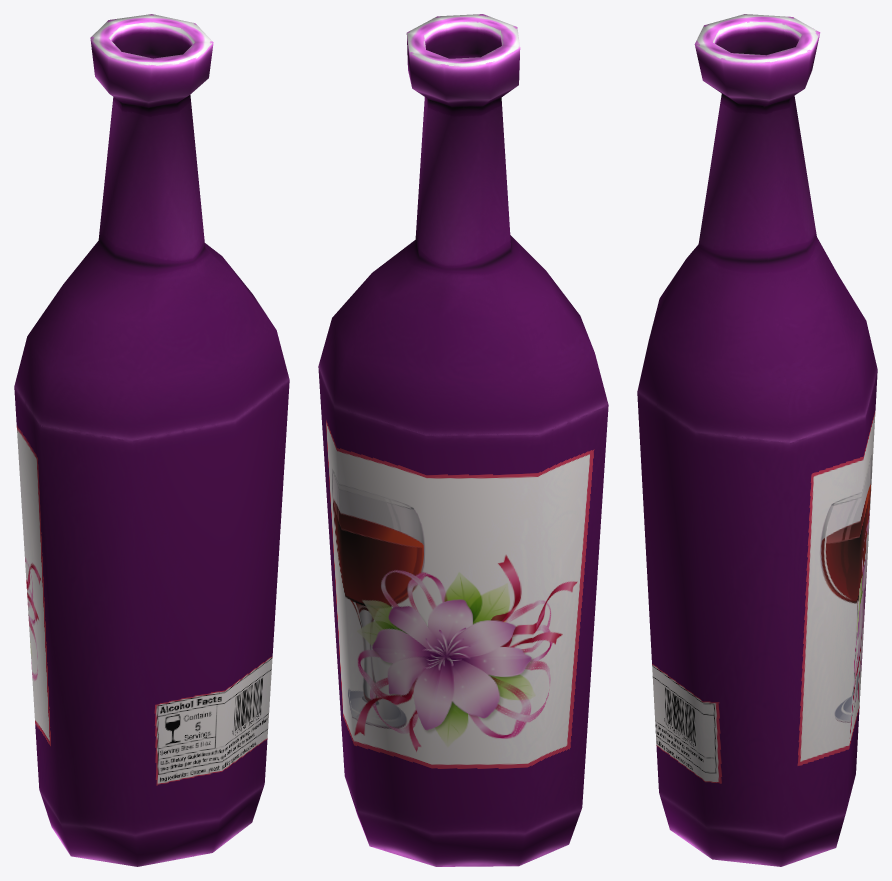
Rendered from bottle.fbx.
The picture shows the model from 3 angles, left to right: view 1: azimuth 30°, elevation 25°; view 2: azimuth 150°, elevation 25°; view 3: azimuth 270°, elevation 25°; orthographic projection.
Parts seen in each view (by area): view 1: Rooms_01_bottle; view 2: Rooms_01_bottle; view 3: Rooms_01_bottle.
Part boxes in pixels (<box>): Rooms_01_bottle: <box>14,14,289,866</box>; Rooms_01_bottle: <box>318,14,608,866</box>; Rooms_01_bottle: <box>637,14,877,866</box>.
Size of the model in its own units: 0.0698 by 0.2049 by 0.057.
